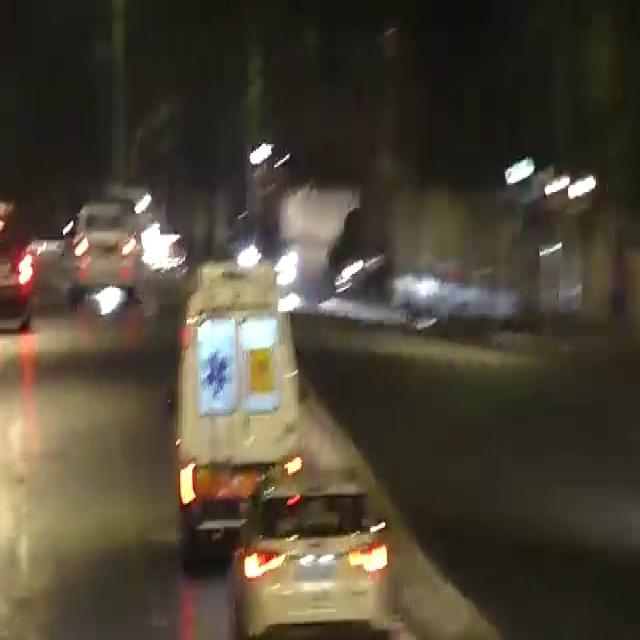ambulance: (184, 283, 308, 519)
